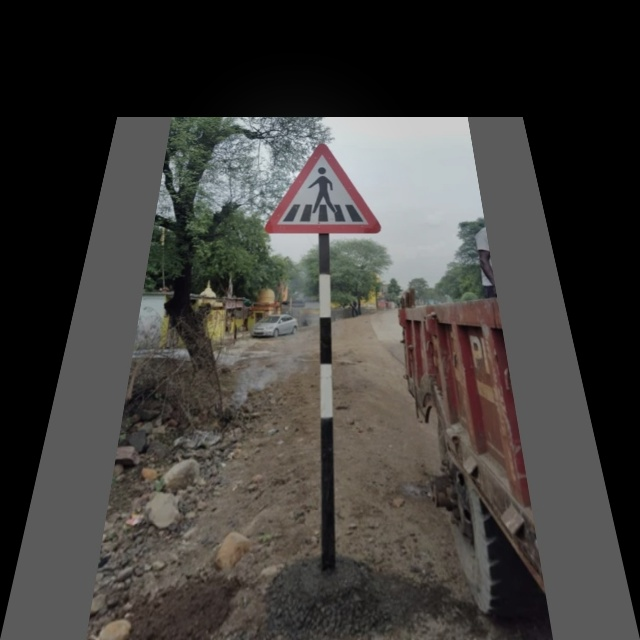Pedestrian_Crossing: (267, 137, 386, 235)
